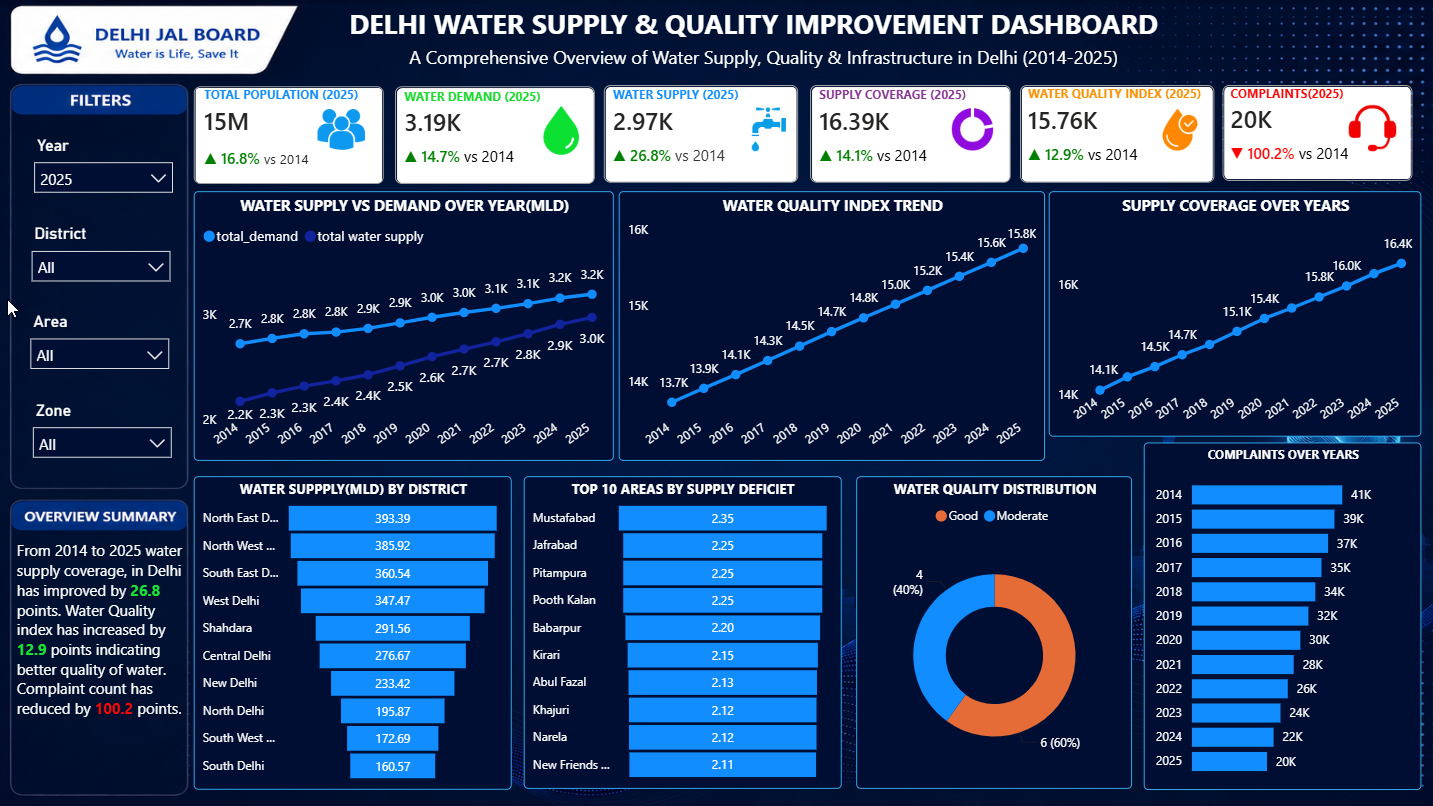

The dashboard page shown, as its layout file describes it:
{"tool":"powerbi","page":{"name":"Page 4","canvas":[1280,720],"ordinal":2},"visuals":[{"type":"textbox","box":[307.1,0,744.8,43.5],"z":0,"group":"g7"},{"type":"cardVisual","fields":{"Data":["Measures (2).Total_Population"]},"box":[156.3,60.3,203.2,121.7],"z":0,"group":"g1"},{"type":"lineChart","title":"WATER SUPPLY VS DEMAND OVER  YEAR(MLD)","fields":{"Y":["Measures (2).total_demand","Measures (2).total water supply"],"Category":["Delhi_Jal_Board.Year.Variation.Date Hierarchy.Year"]},"box":[173.1,170.8,375.2,241.2],"z":0},{"type":"textbox","box":[360.7,34.6,651,38],"z":1000,"group":"g7"},{"type":"cardVisual","fields":{"Data":["Measures (2).total_water_demand"]},"box":[336.1,60.4,212.6,121.1],"z":1000,"group":"g2"},{"type":"lineChart","title":"WATER QUALITY INDEX TREND","fields":{"Y":["Measures (2).Water Quality_Index"],"Category":["Delhi_Jal_Board.Year.Variation.Date Hierarchy.Year"]},"box":[552.7,170.8,380.8,241.2],"z":1000},{"type":"cardVisual","fields":{"Data":["Measures (2).total water supply"]},"box":[522.7,59.3,207.6,121.1],"z":2000,"group":"g3"},{"type":"lineChart","title":"SUPPLY COVERAGE OVER YEARS","fields":{"Y":["Measures (2).Supply_coverage"],"Category":["Delhi_Jal_Board.Year.Variation.Date Hierarchy.Year"]},"box":[936.9,170.8,332.8,218.9],"z":2000},{"type":"cardVisual","fields":{"Data":["Measures (2).Supply_coverage"]},"box":[706.8,59.2,213.8,121.1],"z":3000,"group":"g4"},{"type":"funnel","title":"WATER SUPPPLY(MLD) BY DISTRICT","fields":{"Category":["Delhi_Jal_Board.District"],"Y":["Measures (2).total water supply"]},"box":[173.1,425.4,283.6,280.3],"z":3000},{"type":"cardVisual","fields":{"Data":["Measures (2).Water Quality_Index"]},"box":[894.3,59.2,207.6,121.1],"z":4000,"group":"g5"},{"type":"funnel","title":"TOP 10 AREAS BY SUPPLY DEFICIET","fields":{"Y":["Measures (2).supply_deficiet"],"Category":["Delhi_Jal_Board.Area"]},"box":[467.9,425.4,283.6,279.2],"z":4000},{"type":"cardVisual","fields":{"Data":["Measures (2).complaint_count"]},"box":[1075.3,59.2,203.9,119.9],"z":5000,"group":"g6"},{"type":"donutChart","title":"WATER QUALITY DISTRIBUTION ","fields":{"Category":["Delhi_Jal_Board.Water_Quality_Status"],"Y":["CountNonNull(Delhi_Jal_Board.Area)"]},"box":[764.9,425.4,246.8,279.2],"z":5000},{"type":"barChart","title":"COMPLAINTS OVER YEARS","fields":{"Category":["Delhi_Jal_Board.Year.Variation.Date Hierarchy.Year"],"Y":["Measures (2).complaint_count"]},"box":[1021.7,395.3,247.9,310.4],"z":6000},{"type":"slicer","fields":{"Values":["Delhi_Jal_Board.Zone"]},"box":[19,352.9,144,72.6],"z":7000},{"type":"slicer","fields":{"Values":["Delhi_Jal_Board.Area"]},"box":[16.7,273.6,144,72.6],"z":8000},{"type":"slicer","fields":{"Values":["Delhi_Jal_Board.District"]},"box":[17.9,195.4,144,72.6],"z":9000},{"type":"slicer","fields":{"Values":["Delhi_Jal_Board.Year"]},"box":[20.1,116.1,144,73.7],"z":10000},{"type":"group","id":"g1","title":"Group 1","box":[156.3,60.3,203.2,121.7],"z":11000},{"type":"group","id":"g2","title":"Group 2","box":[336.1,60.4,212.2,121.7],"z":12000},{"type":"group","id":"g3","title":"Group 3","box":[522.7,59.3,207.6,121.1],"z":13000},{"type":"group","id":"g4","title":"Group 4","box":[706.8,59.2,213.3,121.7],"z":14000},{"type":"group","id":"g5","title":"Group 5","box":[894.3,59.2,207.7,121.7],"z":15000},{"type":"group","id":"g6","title":"Group 6","box":[1075.3,59.2,204.3,120.6],"z":16000},{"type":"group","id":"g7","title":"Group 7","box":[307.1,0,744.8,72.6],"z":17000},{"type":"image","box":[283.6,91.6,42.4,48],"z":17005,"group":"g1"},{"type":"image","box":[480.1,92.6,42.4,48],"z":17007,"group":"g2"},{"type":"image","box":[665.5,91.5,42.4,48],"z":17010,"group":"g3"},{"type":"image","box":[847.5,91.4,42.4,48],"z":17012,"group":"g4"},{"type":"image","box":[1032.4,91.4,42.4,48],"z":17014,"group":"g5"},{"type":"image","box":[1204.9,90.2,42.4,48],"z":17016,"group":"g6"},{"type":"textbox","box":[13.4,477.9,146.3,197.6],"z":18000}]}

Visuals, with their boxes in screenshot pixels (x1, y1, x2, y2), scaled from the page's 1280x720 canvas onto the 1433x806 screenshot:
textbox: (x1=344, y1=0, x2=1178, y2=49)
cardVisual - Measures (2).Total_Population: (x1=175, y1=68, x2=402, y2=204)
"WATER SUPPLY VS DEMAND OVER  YEAR(MLD)" lineChart: (x1=194, y1=191, x2=614, y2=461)
textbox: (x1=404, y1=39, x2=1133, y2=81)
cardVisual - Measures (2).total_water_demand: (x1=376, y1=68, x2=614, y2=203)
"WATER QUALITY INDEX TREND" lineChart: (x1=619, y1=191, x2=1045, y2=461)
cardVisual - Measures (2).total water supply: (x1=585, y1=66, x2=818, y2=202)
"SUPPLY COVERAGE OVER YEARS" lineChart: (x1=1049, y1=191, x2=1421, y2=436)
cardVisual - Measures (2).Supply_coverage: (x1=791, y1=66, x2=1031, y2=202)
"WATER SUPPPLY(MLD) BY DISTRICT" funnel: (x1=194, y1=476, x2=511, y2=790)
cardVisual - Measures (2).Water Quality_Index: (x1=1001, y1=66, x2=1234, y2=202)
"TOP 10 AREAS BY SUPPLY DEFICIET" funnel: (x1=524, y1=476, x2=841, y2=789)
cardVisual - Measures (2).complaint_count: (x1=1204, y1=66, x2=1432, y2=200)
"WATER QUALITY DISTRIBUTION " donutChart: (x1=856, y1=476, x2=1133, y2=789)
"COMPLAINTS OVER YEARS" barChart: (x1=1144, y1=443, x2=1421, y2=790)
slicer - Delhi_Jal_Board.Zone: (x1=21, y1=395, x2=182, y2=476)
slicer - Delhi_Jal_Board.Area: (x1=19, y1=306, x2=180, y2=388)
slicer - Delhi_Jal_Board.District: (x1=20, y1=219, x2=181, y2=300)
slicer - Delhi_Jal_Board.Year: (x1=23, y1=130, x2=184, y2=212)
"Group 1" group: (x1=175, y1=68, x2=402, y2=204)
"Group 2" group: (x1=376, y1=68, x2=614, y2=204)
"Group 3" group: (x1=585, y1=66, x2=818, y2=202)
"Group 4" group: (x1=791, y1=66, x2=1030, y2=203)
"Group 5" group: (x1=1001, y1=66, x2=1234, y2=203)
"Group 6" group: (x1=1204, y1=66, x2=1432, y2=201)
"Group 7" group: (x1=344, y1=0, x2=1178, y2=81)
image: (x1=317, y1=103, x2=365, y2=156)
image: (x1=537, y1=104, x2=585, y2=157)
image: (x1=745, y1=102, x2=793, y2=156)
image: (x1=949, y1=102, x2=996, y2=156)
image: (x1=1156, y1=102, x2=1203, y2=156)
image: (x1=1349, y1=101, x2=1396, y2=155)
textbox: (x1=15, y1=535, x2=179, y2=756)
